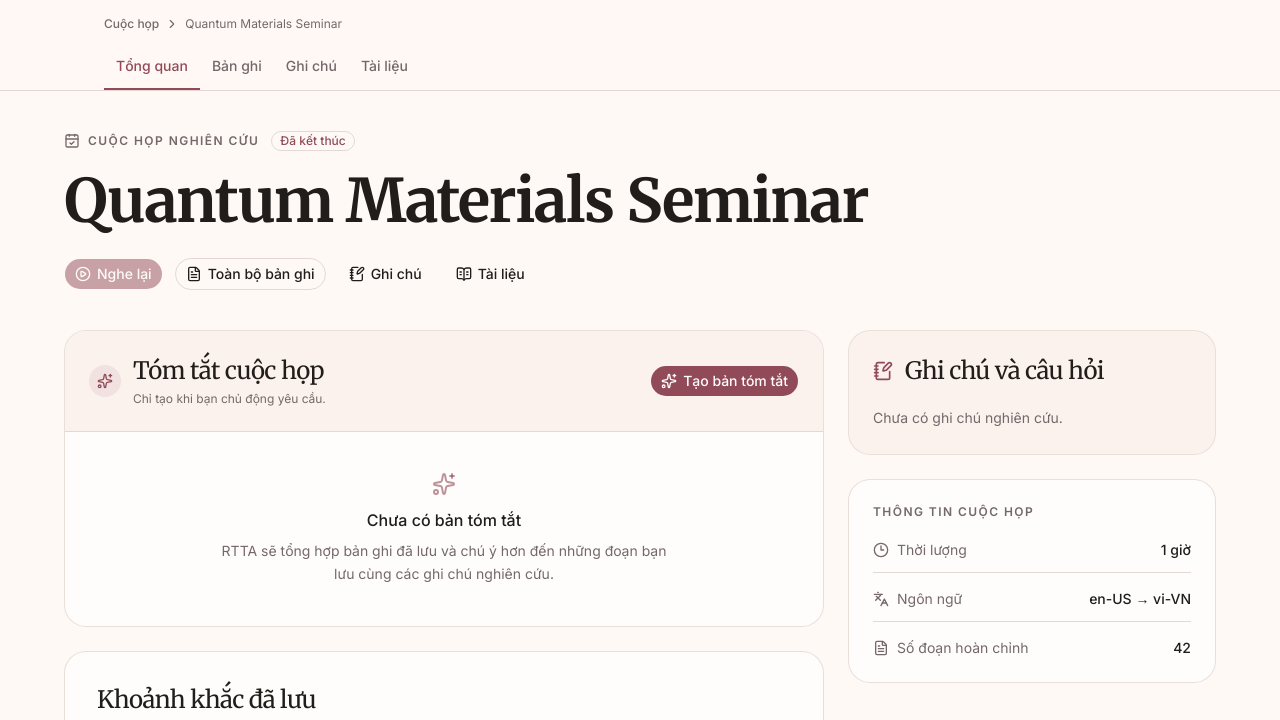
Test: CompletedMeetingOverview › shows a friendly retry state without technical failure details
Click the button "Tạo bản tóm tắt".
click(725, 381)  # box [650,365,799,397]
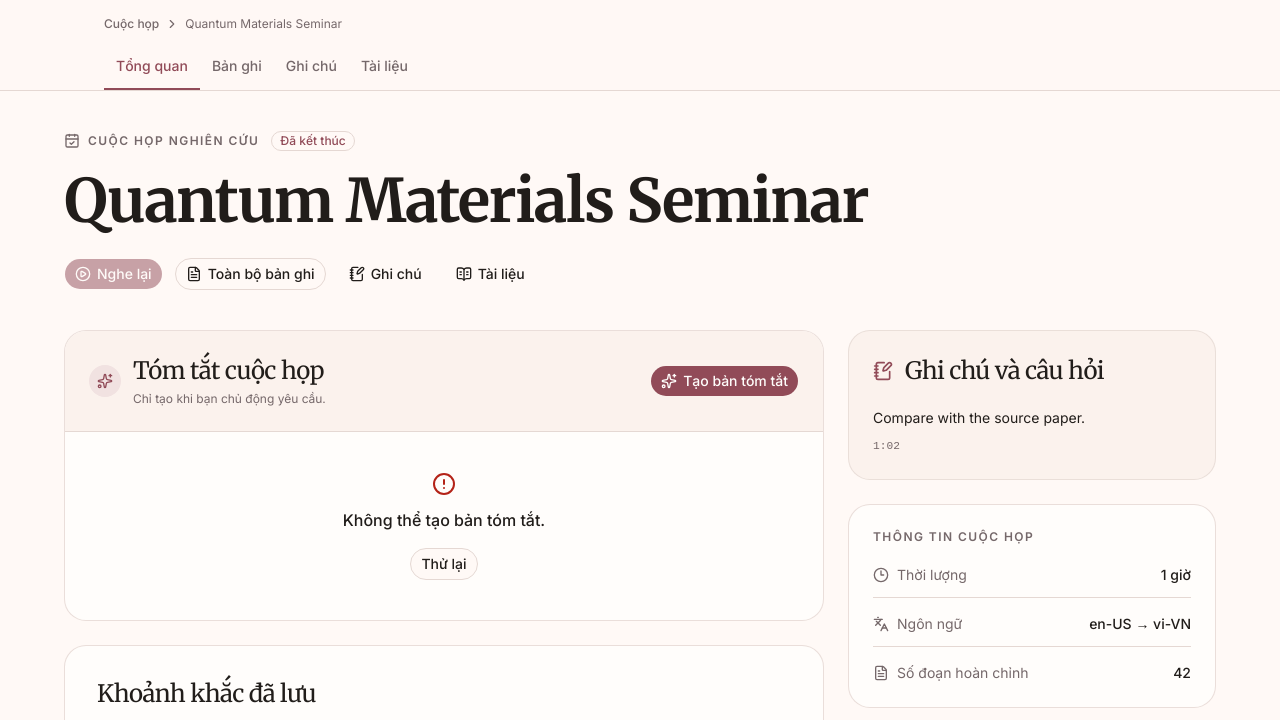
Result: the text "Không thể tạo bản tóm tắt." is shown at [343,510,545,530]
Result: the button "Thử lại" is shown at [410,548,478,580]
